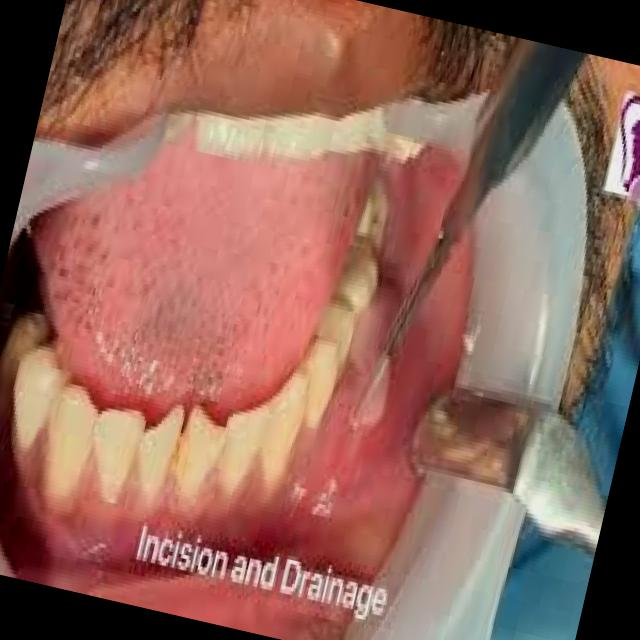abscess: (338, 342, 414, 442)
